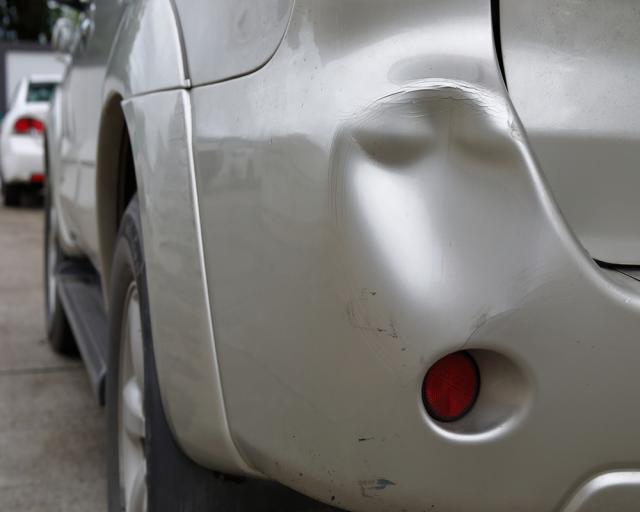dent: (344, 83, 539, 335)
scratch: (352, 431, 397, 507)
